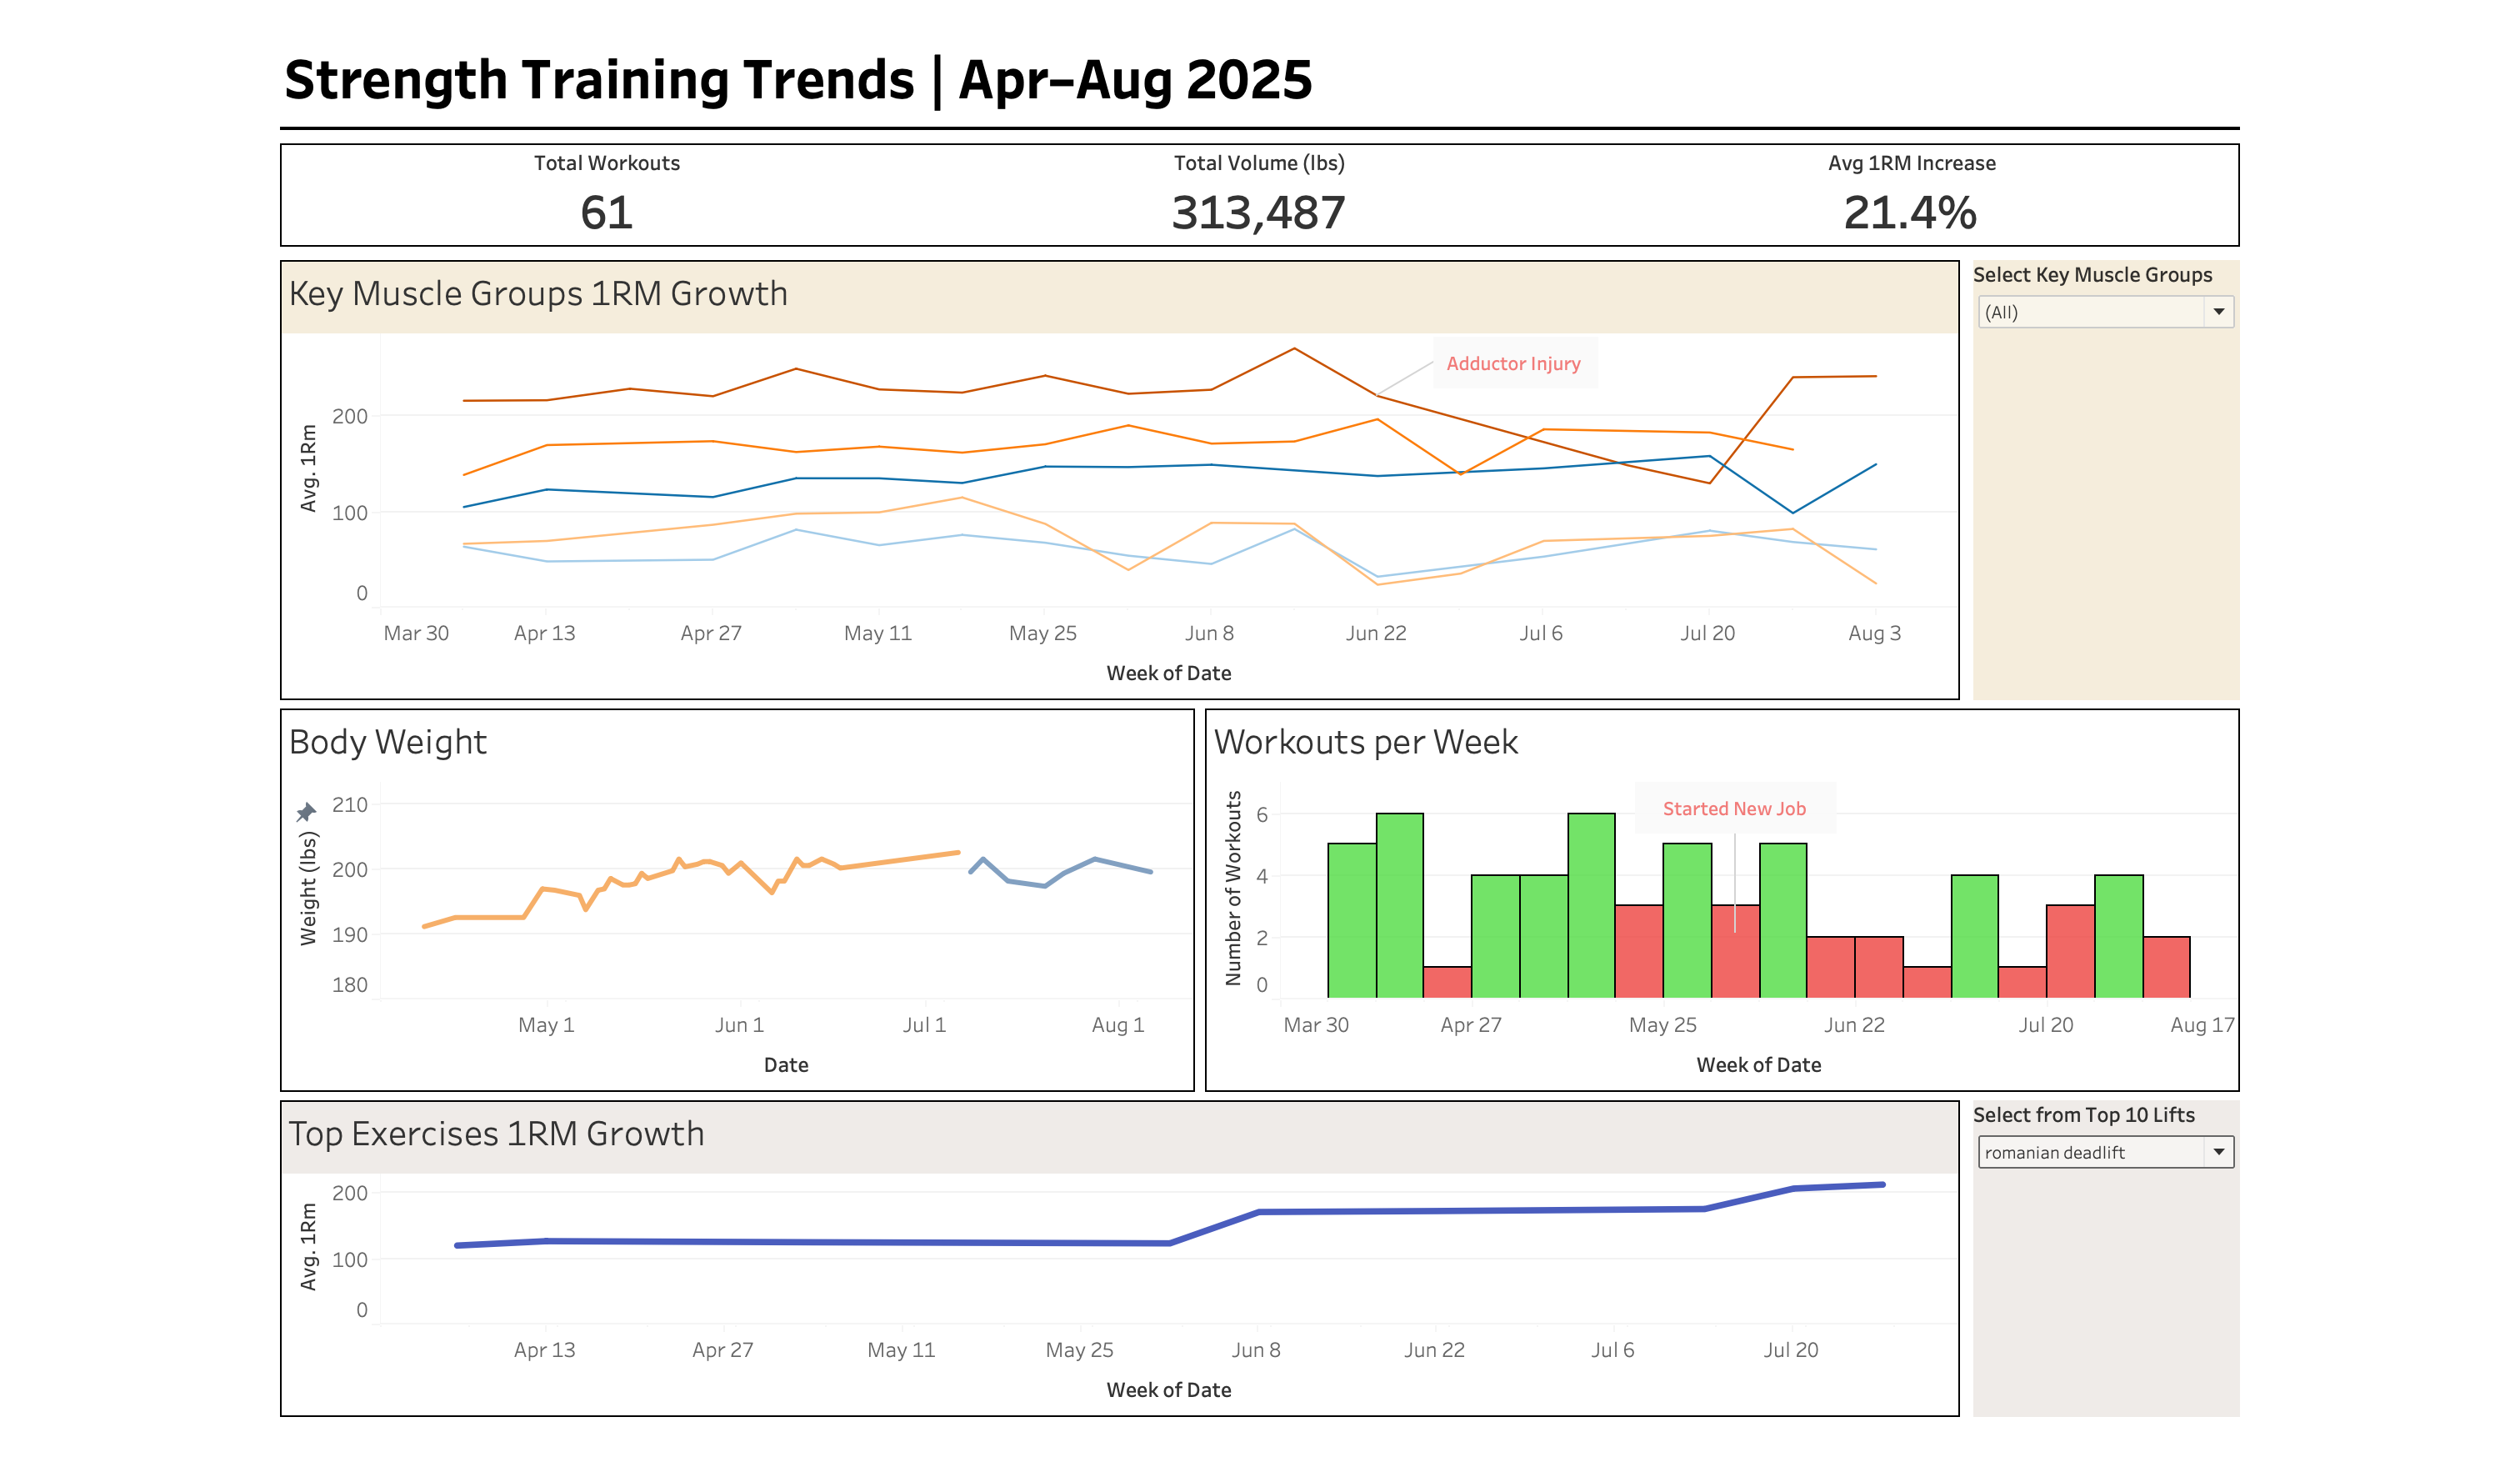

The dashboard page shown, as its layout file describes it:
{"tool":"tableau","page":{"name":"Dashboard 1","canvas":[1200,850],"ordinal":0},"visuals":[{"type":"title","box":[8,8,1184,52]},{"type":"blank","box":[8,60,1184,10]},{"type":"worksheet","title":"KPIs","mark":"Automatic","box":[8,70,1184,70]},{"type":"worksheet","title":"Key Muscle Groups 1RM Growth","mark":"Automatic","rows":["estimated_1rm"],"cols":["Date"],"box":[8,140,1016,272]},{"type":"filter","title":"Key Muscle Groups 1RM Growth","param":"[federated.0vgfipv14o97qo15e7po5028rjjd].[Key Muscle Groups]","box":[1024,140,168,272]},{"type":"worksheet","title":"Body Weight","mark":"Automatic","rows":["weight"],"cols":["Date"],"box":[12,413,549,230]},{"type":"worksheet","title":"Workouts per Week","mark":"Bar","rows":["Calculation_2426525445189500928"],"cols":["Date"],"box":[567,413,621,230]},{"type":"worksheet","title":"Top Exercises 1RM Growth","mark":"Line","rows":["estimated_1rm"],"cols":["Date"],"box":[8,644,1016,198]},{"type":"filter","title":"Top Exercises 1RM Growth","param":"[federated.0vgfipv14o97qo15e7po5028rjjd].[Lift Set]","box":[1024,644,168,198]}]}

Visuals, with their boxes in screenshot pixels (x1, y1, x2, y2):
title: x1=302, y1=33, x2=2232, y2=118
blank: x1=302, y1=118, x2=2232, y2=134
"KPIs" worksheet: x1=302, y1=134, x2=2232, y2=248
"Key Muscle Groups 1RM Growth" worksheet: x1=302, y1=248, x2=1958, y2=692
"Key Muscle Groups 1RM Growth" filter: x1=1958, y1=248, x2=2232, y2=692
"Body Weight" worksheet: x1=308, y1=693, x2=1203, y2=1069
"Workouts per Week" worksheet (Bar marks): x1=1213, y1=693, x2=2226, y2=1069
"Top Exercises 1RM Growth" worksheet (Line marks): x1=302, y1=1070, x2=1958, y2=1393
"Top Exercises 1RM Growth" filter: x1=1958, y1=1070, x2=2232, y2=1393
